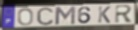6: (77, 6, 92, 24)
C: (36, 6, 55, 27)
K: (97, 6, 112, 24)
M: (54, 6, 76, 26)
O: (17, 7, 35, 26)
R: (114, 4, 134, 24)
